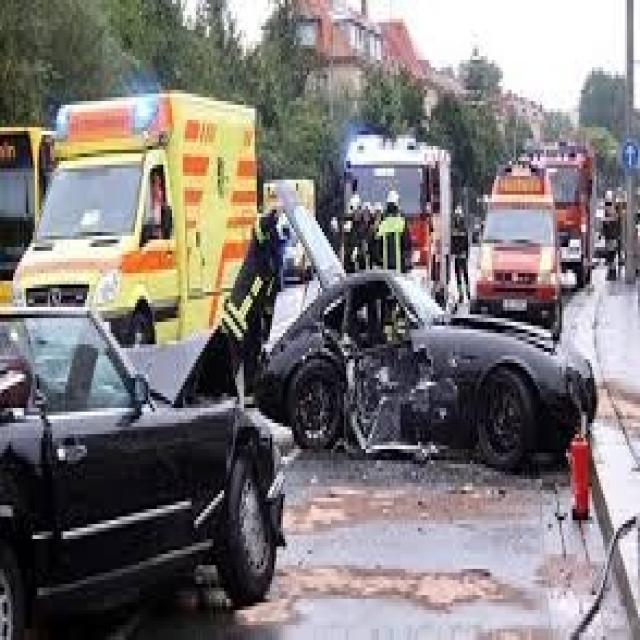accident: (0, 286, 294, 606), (238, 254, 594, 486)
